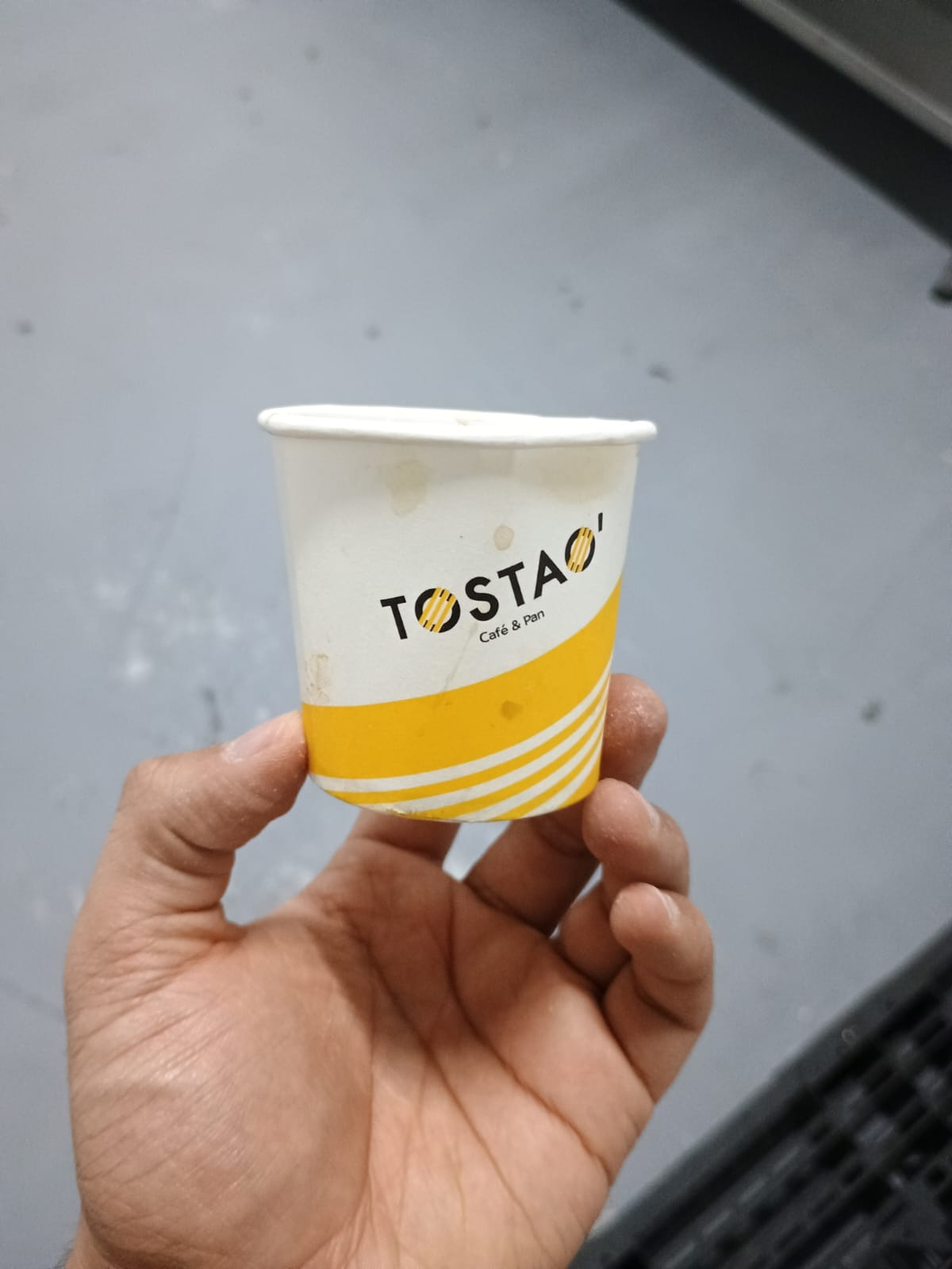Carton: (255, 407, 653, 827)
